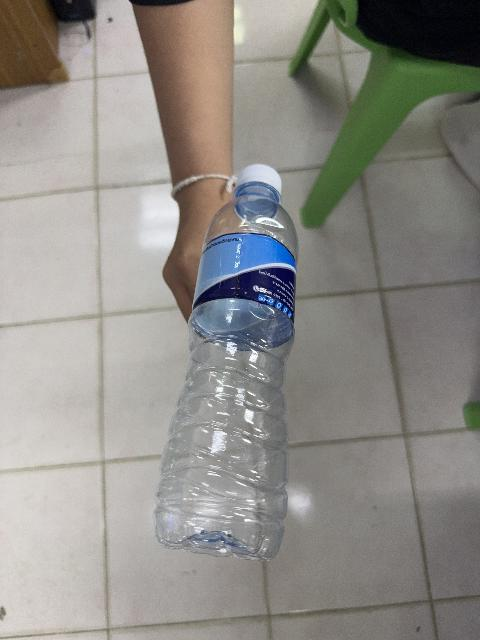bottle: (155, 165, 297, 560)
